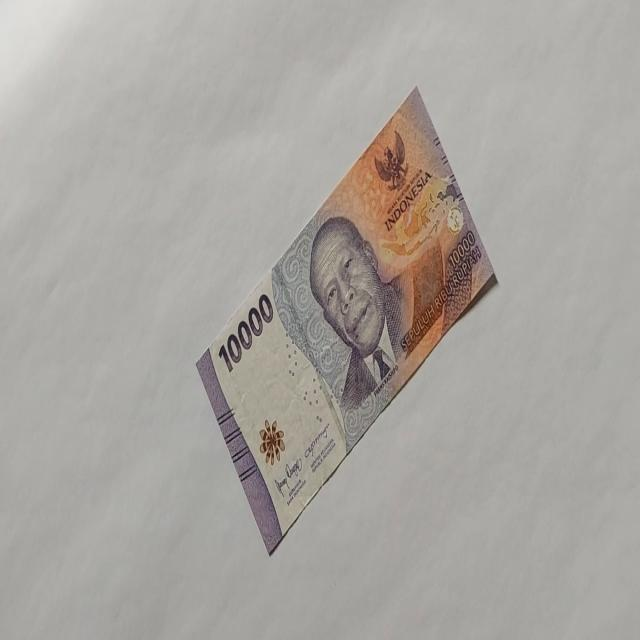sepuluh ribu rupiah: (195, 83, 499, 556), (217, 290, 274, 374)
